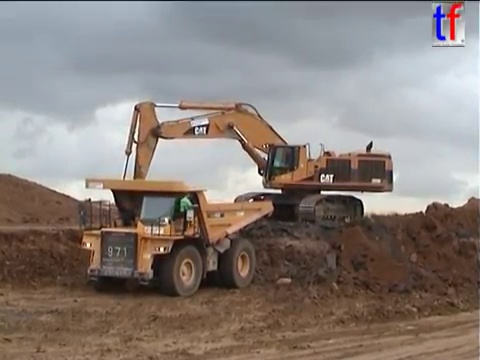excavator: (113, 97, 396, 250)
truck: (76, 176, 275, 297)
worker: (177, 190, 200, 237)
